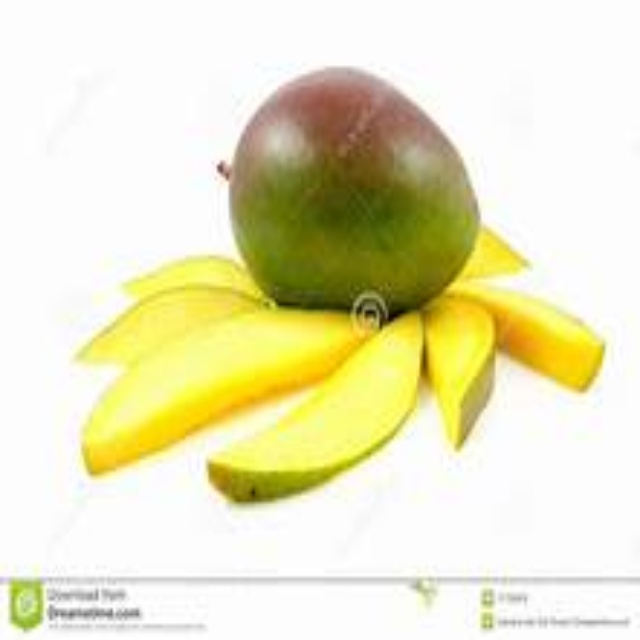mango: (215, 64, 495, 325)
